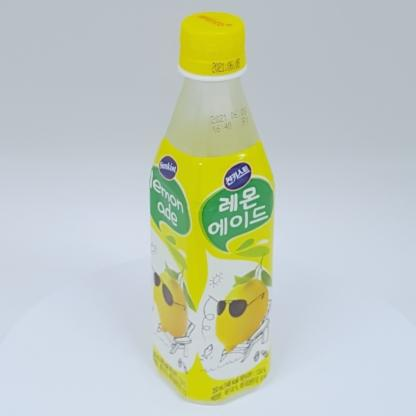-------350ML: (150, 9, 275, 407)
